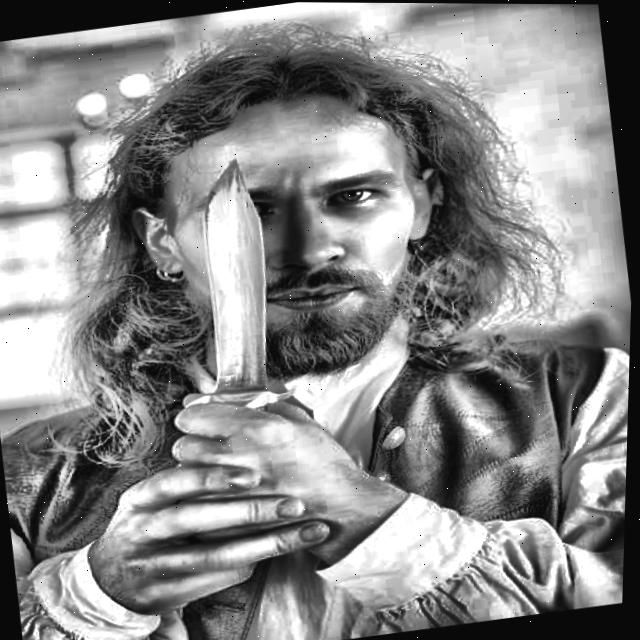pisau: (161, 155, 317, 438)
